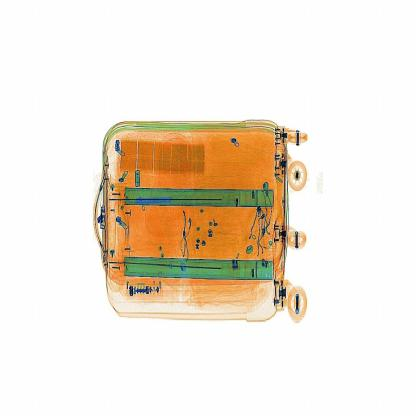pliers: (135, 190, 186, 217)
